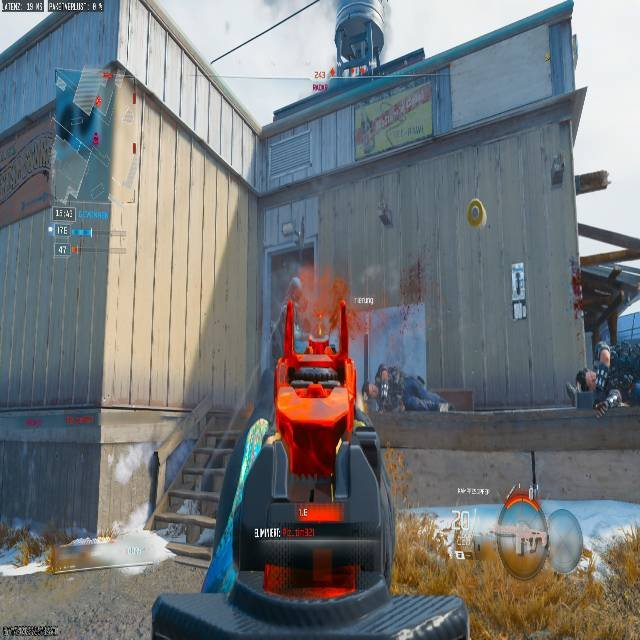player: (575, 265, 638, 389)
